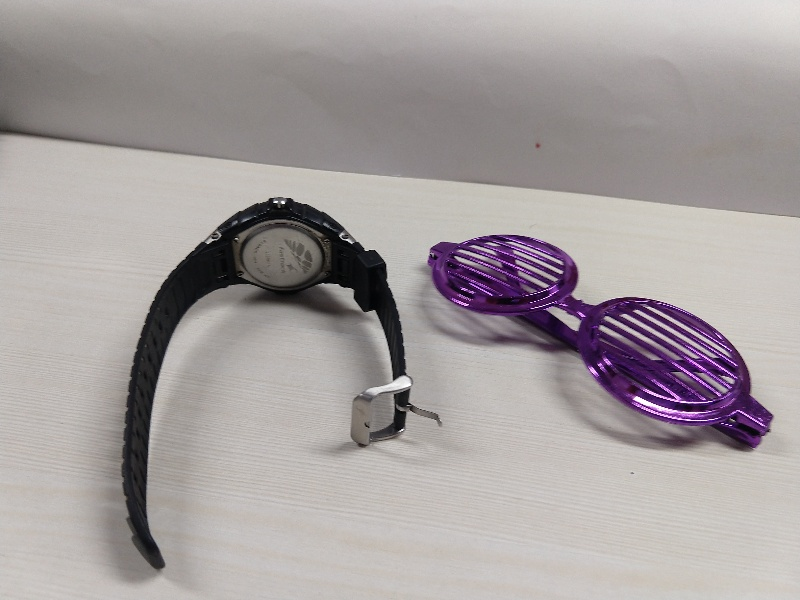shades: (426, 233, 772, 454)
watch: (130, 170, 433, 572)
